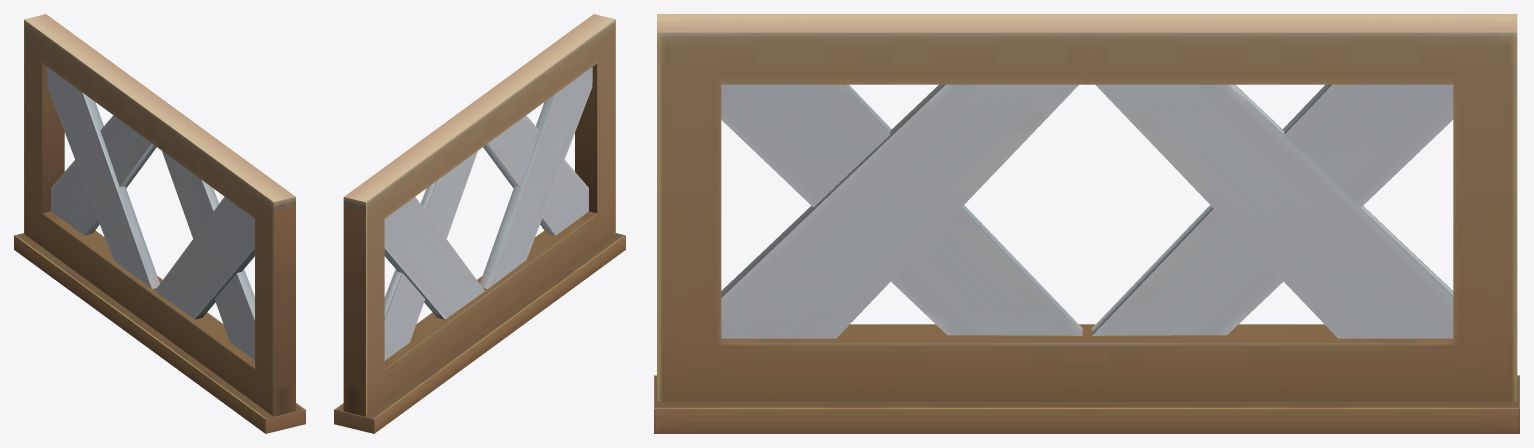
The model's file is my_seahouse_01_partition_01.glb.
3 views of the same model, side by side, from view 1: azimuth 30°, elevation 25°; view 2: azimuth 150°, elevation 25°; view 3: azimuth 270°, elevation 25° (orthographic). The views are drawn at different scales.
Visible parts, largest first — view 1: my_seahouse_01_partition_01; view 2: my_seahouse_01_partition_01; view 3: my_seahouse_01_partition_01.
Part boxes in pixels (x1=…): my_seahouse_01_partition_01: x1=14, y1=14, x2=305, y2=433; my_seahouse_01_partition_01: x1=334, y1=14, x2=625, y2=433; my_seahouse_01_partition_01: x1=654, y1=14, x2=1519, y2=433.
Size of the model in its own units: 0.00106 by 0.00578 by 0.0115.
Materials: 1 (1 with a texture image).
